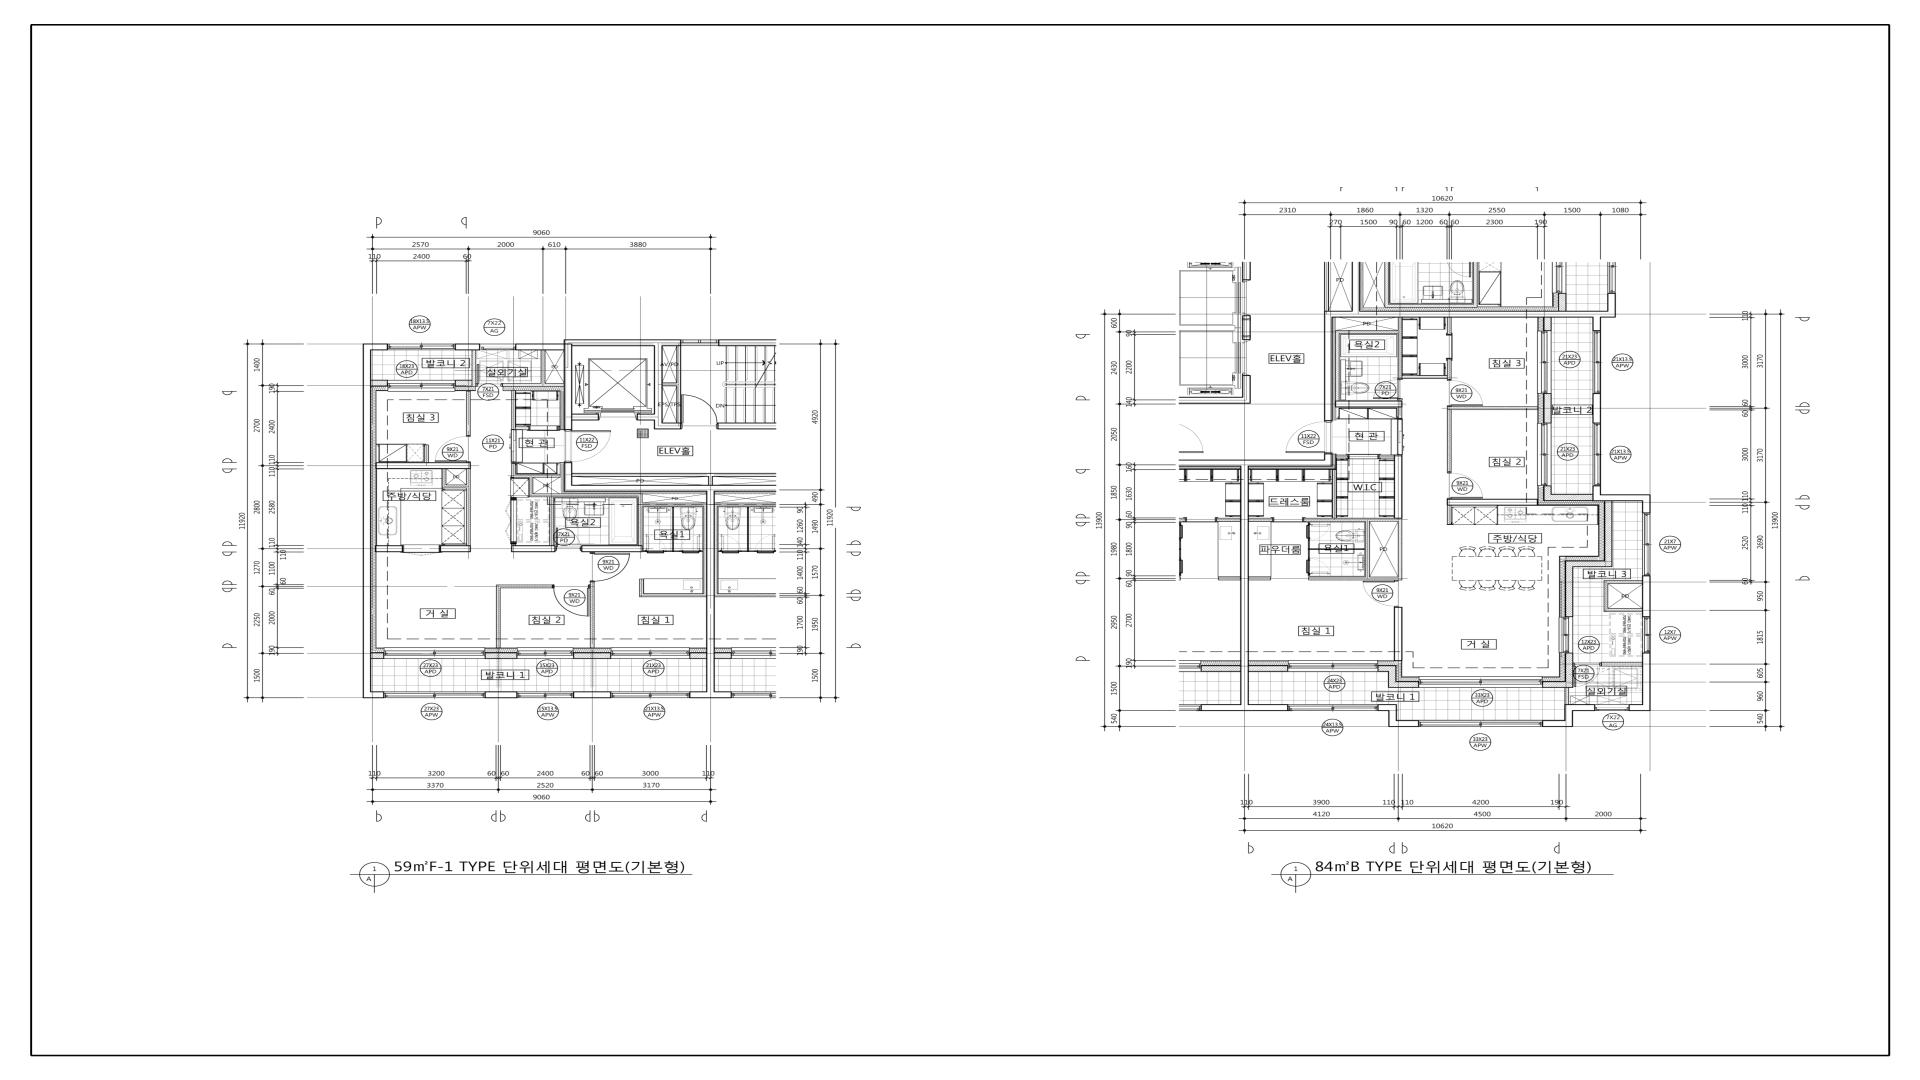door: (564, 430, 612, 463), (1286, 421, 1332, 454), (682, 394, 717, 430), (553, 584, 589, 617), (589, 553, 630, 582), (435, 435, 471, 463), (1362, 580, 1399, 607), (1447, 472, 1484, 498), (1447, 380, 1482, 406), (1573, 663, 1601, 687), (1373, 378, 1402, 401), (555, 527, 582, 551), (476, 364, 502, 386), (505, 497, 517, 545), (1305, 558, 1331, 576), (1307, 522, 1331, 541), (402, 545, 440, 555), (1398, 418, 1403, 455), (510, 430, 516, 463), (1273, 517, 1304, 522), (1348, 454, 1379, 459), (529, 426, 558, 431), (1447, 332, 1452, 360)
wall: (363, 351, 372, 691), (1240, 467, 1249, 704), (1324, 311, 1615, 318), (707, 492, 715, 691), (572, 485, 777, 492), (1179, 460, 1332, 467), (1324, 318, 1333, 421), (564, 339, 682, 347), (572, 473, 777, 477), (1447, 498, 1539, 506), (376, 463, 471, 469), (564, 351, 572, 430), (1201, 704, 1288, 711), (1604, 501, 1613, 560), (654, 345, 662, 414), (1394, 455, 1402, 518), (1394, 607, 1403, 661), (1642, 653, 1651, 704), (1179, 397, 1250, 404), (719, 339, 777, 347), (1335, 401, 1403, 407), (516, 343, 572, 351), (1565, 560, 1573, 617), (529, 493, 640, 497), (676, 345, 682, 423), (582, 546, 642, 553), (717, 423, 777, 430), (1352, 262, 1360, 311), (1642, 576, 1651, 617), (703, 502, 707, 593), (1447, 406, 1538, 410), (1308, 576, 1398, 580), (1543, 495, 1593, 501), (1447, 410, 1452, 472), (1593, 495, 1642, 501), (1398, 318, 1403, 378), (467, 468, 471, 546), (1365, 521, 1370, 576), (512, 546, 555, 553), (1543, 393, 1552, 423), (563, 463, 572, 492), (1336, 334, 1340, 401), (1249, 665, 1288, 671), (591, 582, 595, 647), (1573, 560, 1613, 567), (1324, 262, 1329, 311), (1332, 469, 1337, 518), (1304, 518, 1402, 521), (496, 584, 500, 647), (644, 593, 707, 597), (1336, 330, 1398, 334), (574, 691, 611, 698), (574, 653, 611, 659), (654, 421, 680, 430), (1593, 393, 1601, 423), (1543, 680, 1573, 688), (642, 502, 703, 506), (465, 390, 471, 435), (1398, 521, 1402, 580), (376, 545, 404, 553), (1565, 653, 1573, 680), (485, 691, 517, 698), (500, 584, 553, 588), (485, 653, 517, 659), (638, 493, 642, 546), (1543, 720, 1573, 727), (440, 546, 471, 553), (1242, 315, 1250, 340), (690, 691, 715, 699), (455, 343, 480, 351), (512, 473, 560, 477), (550, 497, 554, 546), (1402, 375, 1447, 378), (1396, 680, 1419, 688), (572, 414, 599, 421), (541, 351, 546, 384), (1642, 495, 1651, 513), (1242, 376, 1250, 397), (363, 344, 388, 351), (637, 414, 662, 421), (502, 384, 564, 386), (1601, 662, 1642, 666), (512, 390, 516, 430), (1604, 580, 1642, 584), (1396, 720, 1419, 727), (1629, 704, 1651, 711), (1564, 704, 1573, 720), (1604, 584, 1609, 612), (472, 351, 476, 386), (1573, 704, 1594, 711), (363, 691, 384, 698), (1242, 262, 1250, 280), (1389, 671, 1396, 688), (1609, 608, 1642, 612), (1389, 711, 1396, 727), (1543, 318, 1552, 331), (1378, 704, 1396, 711), (1378, 665, 1396, 671), (371, 380, 388, 386), (455, 380, 472, 386), (690, 653, 707, 659), (1593, 318, 1601, 331), (1447, 505, 1452, 525), (1447, 360, 1452, 380), (442, 469, 447, 488), (1249, 518, 1273, 522), (1249, 576, 1271, 580), (371, 653, 384, 659), (1543, 485, 1552, 495), (1564, 688, 1569, 704), (1447, 318, 1452, 332), (1593, 485, 1601, 495), (1309, 549, 1365, 550), (640, 579, 644, 597), (425, 444, 429, 463), (529, 477, 533, 493), (1379, 455, 1394, 459), (662, 382, 676, 386), (446, 485, 467, 488), (1324, 454, 1332, 460), (708, 476, 713, 485), (1336, 455, 1348, 459), (1398, 407, 1402, 418), (512, 463, 516, 473), (516, 427, 529, 430), (510, 496, 529, 497), (1308, 541, 1309, 558), (558, 427, 560, 430), (512, 545, 516, 546)
window: (1419, 676, 1543, 687), (384, 647, 485, 659), (1288, 661, 1378, 671), (611, 647, 690, 659), (1538, 423, 1552, 485), (1538, 331, 1552, 393), (1419, 720, 1543, 727), (388, 380, 455, 392), (384, 691, 485, 698), (517, 647, 574, 658), (1288, 704, 1378, 711), (1642, 513, 1651, 576), (1559, 617, 1573, 653), (612, 691, 690, 698), (1593, 423, 1601, 485), (1593, 331, 1601, 393), (388, 344, 455, 351), (517, 691, 574, 698), (1642, 617, 1651, 653), (1596, 704, 1629, 711), (480, 344, 516, 349)
